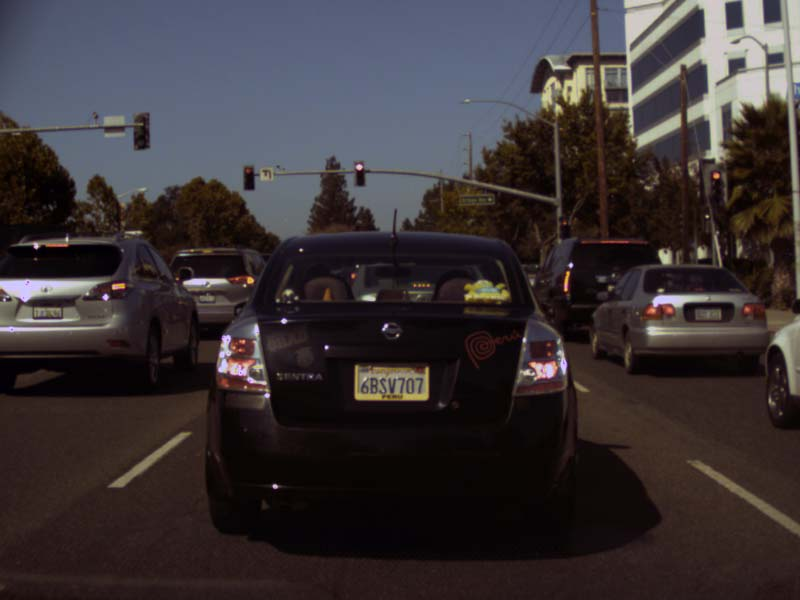Red: (710, 169, 721, 204), (242, 166, 254, 189), (354, 160, 363, 187), (559, 217, 570, 237)
